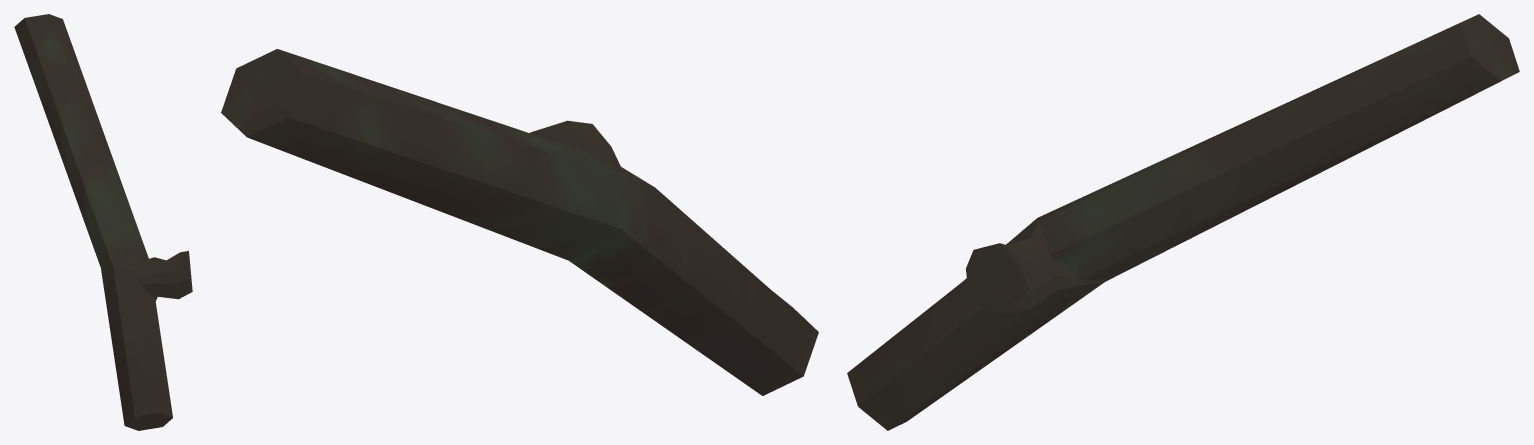
The model's file is polysurface164_lambert6_0_lev2.glb.
3 renders of one model, left to right at view 1: azimuth 30°, elevation 25°; view 2: azimuth 150°, elevation 25°; view 3: azimuth 270°, elevation 25°, orthographic. The views are drawn at different scales.
Visible parts, largest first — view 1: polysurface164_lambert6_0_lev2; view 2: polysurface164_lambert6_0_lev2; view 3: polysurface164_lambert6_0_lev2.
Part boxes in pixels (bbox=[...]): polysurface164_lambert6_0_lev2: bbox=[14, 14, 192, 430]; polysurface164_lambert6_0_lev2: bbox=[221, 49, 818, 395]; polysurface164_lambert6_0_lev2: bbox=[847, 14, 1519, 430].
Size of the model in its own units: 0.3129 by 0.7449 by 0.9857.
Materials: 1 (1 with a texture image).
